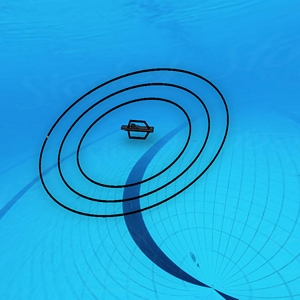circle: (33, 57, 229, 226)
submarine: (121, 118, 155, 144)
